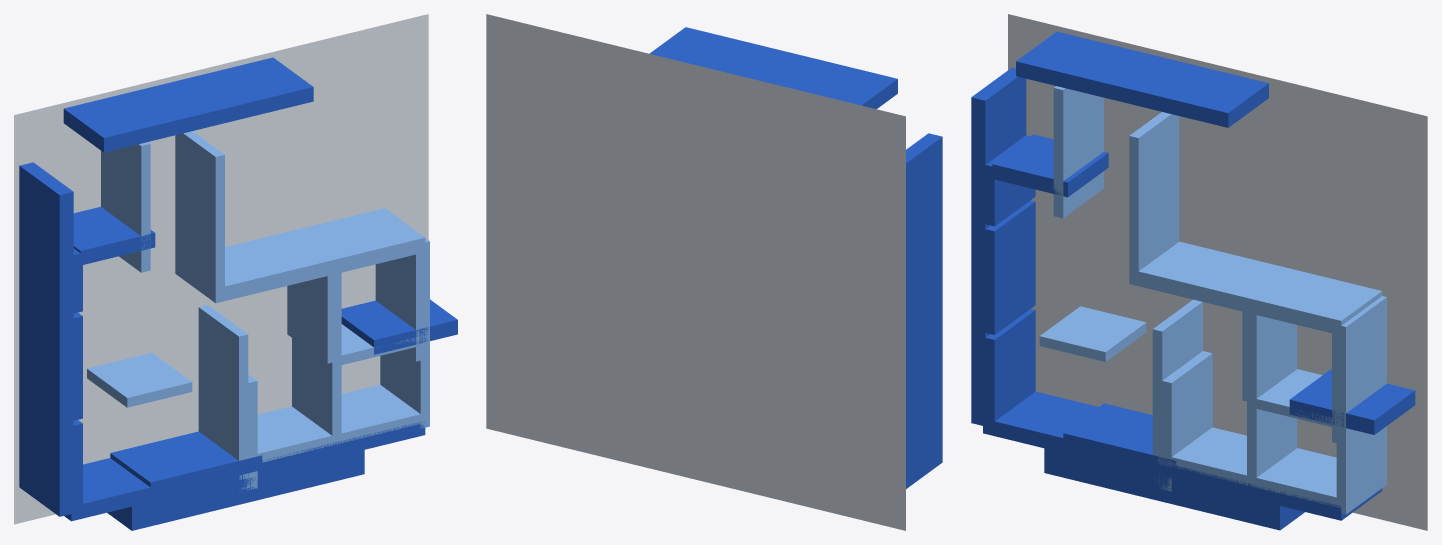
The model's file is a8974ab8-61f6-43f6-8d2a-8ba3bfcb7974.obj.
The picture shows the model from 3 angles, left to right: view 1: azimuth 30°, elevation 25°; view 2: azimuth 150°, elevation 25°; view 3: azimuth 330°, elevation 25°; orthographic projection.
Size of the model in its own units: 17.8 by 16.8 by 3.05.
